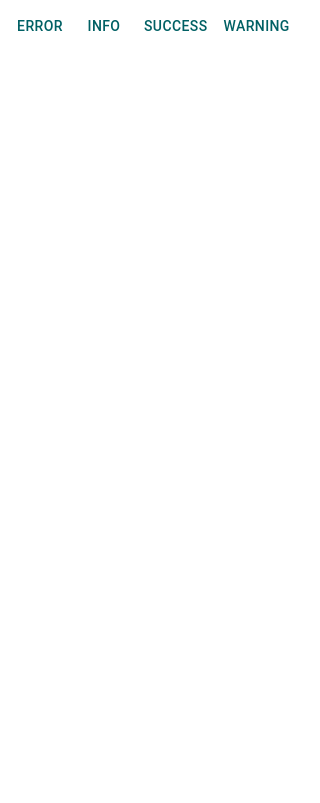
Test: Snackbar component › should display a warning and then an error
The width and height of the screenshot is (320, 803).
Step 1. Click the button "warning" → (257,26), box [216, 8, 298, 44]
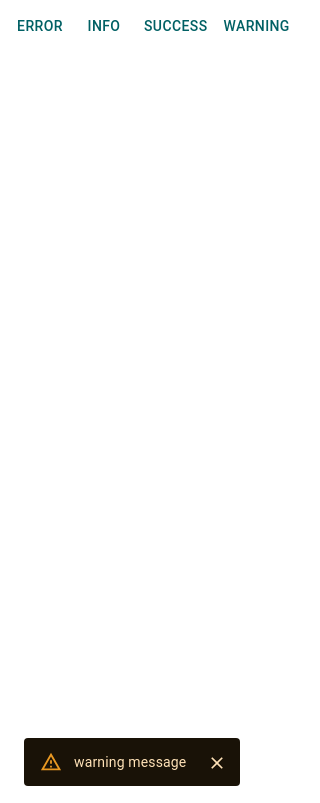
Expected: the text "warning message" is shown, [74, 754, 186, 770]
Expected: the icon with test id "ReportProblemOutlinedIcon" is shown, [40, 751, 62, 773]
Step 2. Click the button "error" → (40,26), box [8, 8, 72, 44]
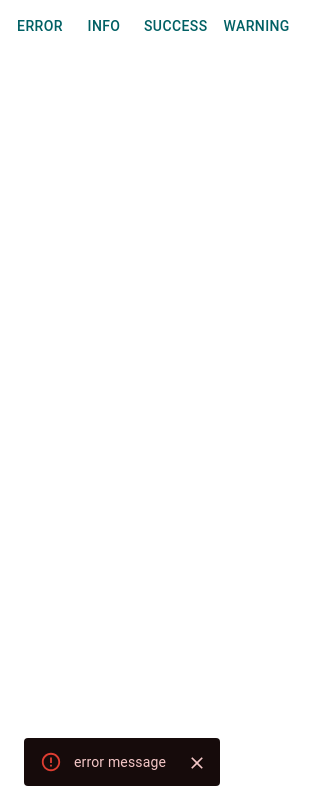
Expected: the text "error message" is shown, [74, 754, 166, 770]
Expected: the icon with test id "ErrorOutlineIcon" is shown, [40, 751, 62, 773]
